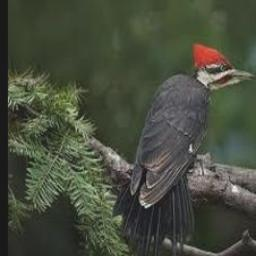Woodpecker: (114, 40, 256, 256)
